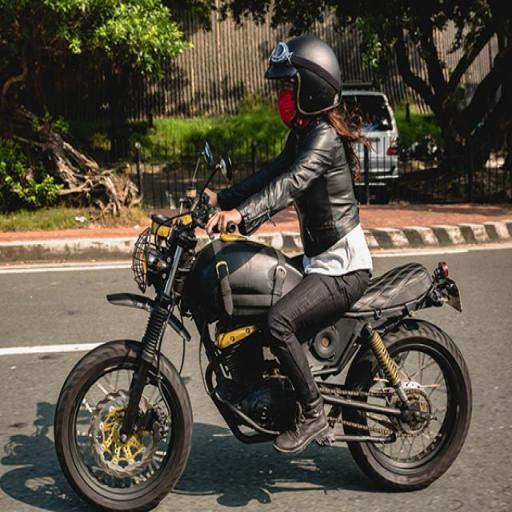Helmet: (265, 39, 344, 129)
Motor: (58, 214, 472, 512)
